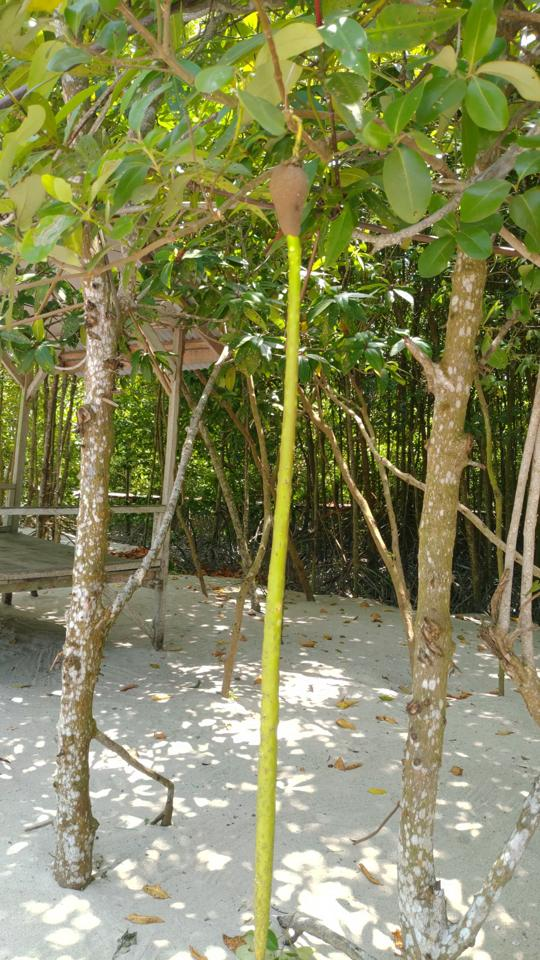mentah: (227, 148, 326, 958)
